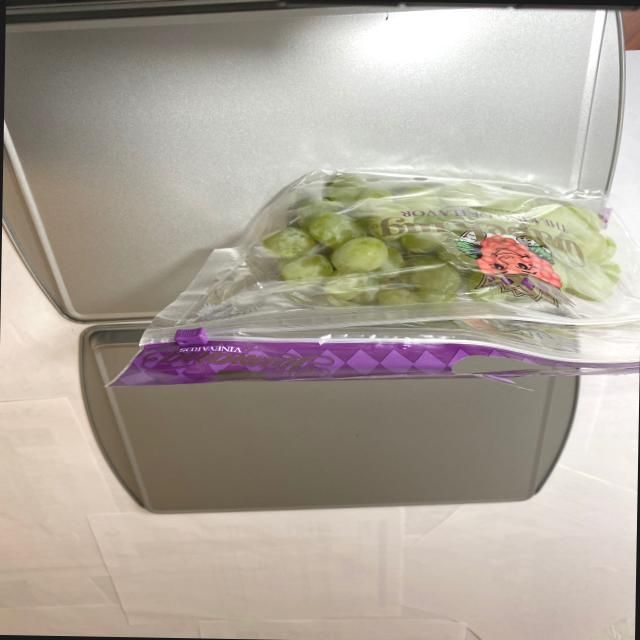grapes: (218, 177, 620, 315)
